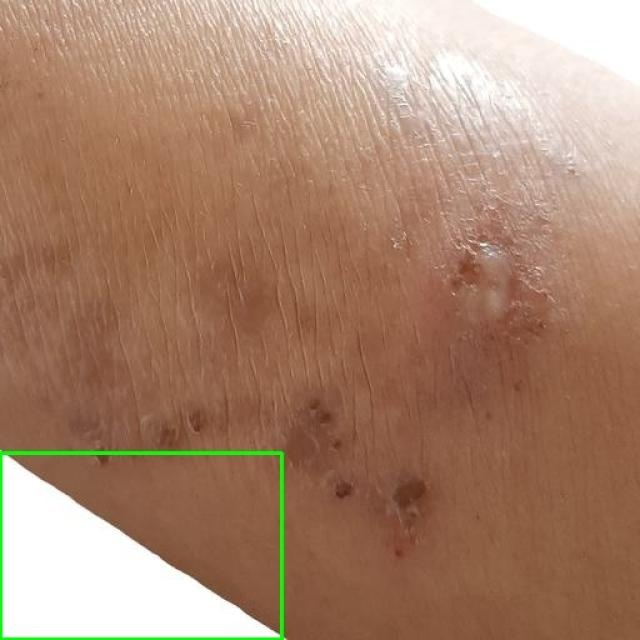Scabies: (0, 452, 281, 639)
